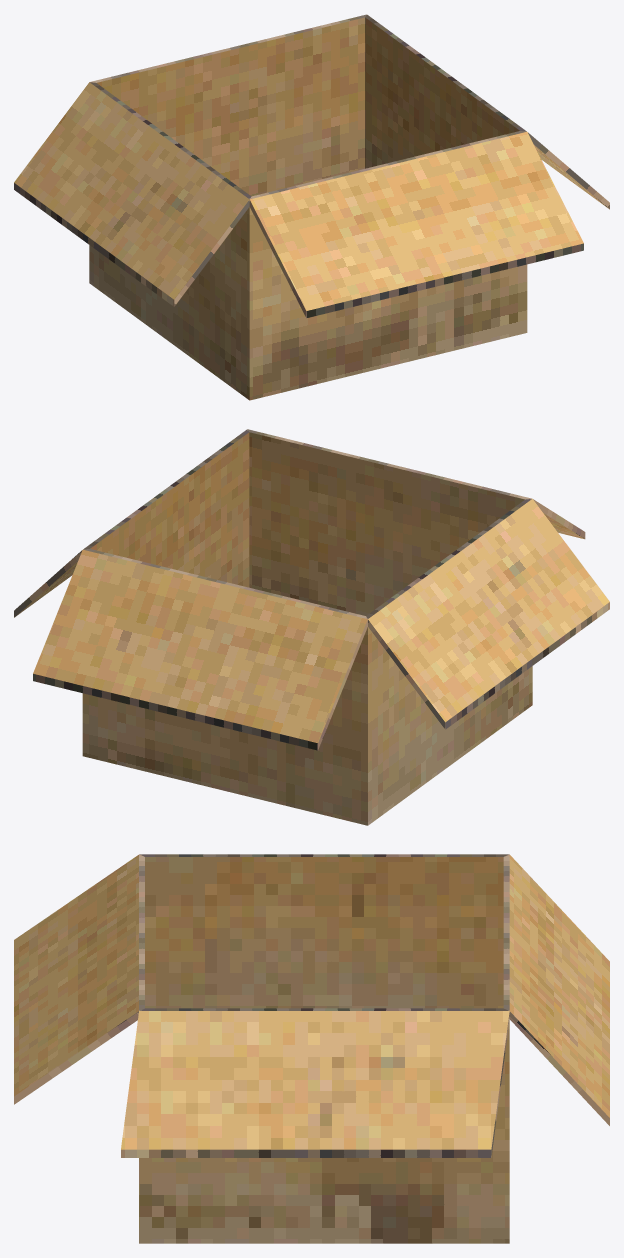
The picture shows the model from 3 angles, top to bottom: view 1: azimuth 30°, elevation 25°; view 2: azimuth 150°, elevation 25°; view 3: azimuth 270°, elevation 25°; orthographic projection. The views are drawn at different scales.
Visible parts, largest first — view 1: box2; view 2: box2; view 3: box2.
Boxes of the visible parts, x1,y1,x2,y2 form: box2: [14, 14, 609, 400]; box2: [14, 429, 609, 825]; box2: [14, 854, 609, 1243].
Size of the model in its own units: 0.6929 by 0.3113 by 0.7231.
Materials: 1 (1 with a texture image).
